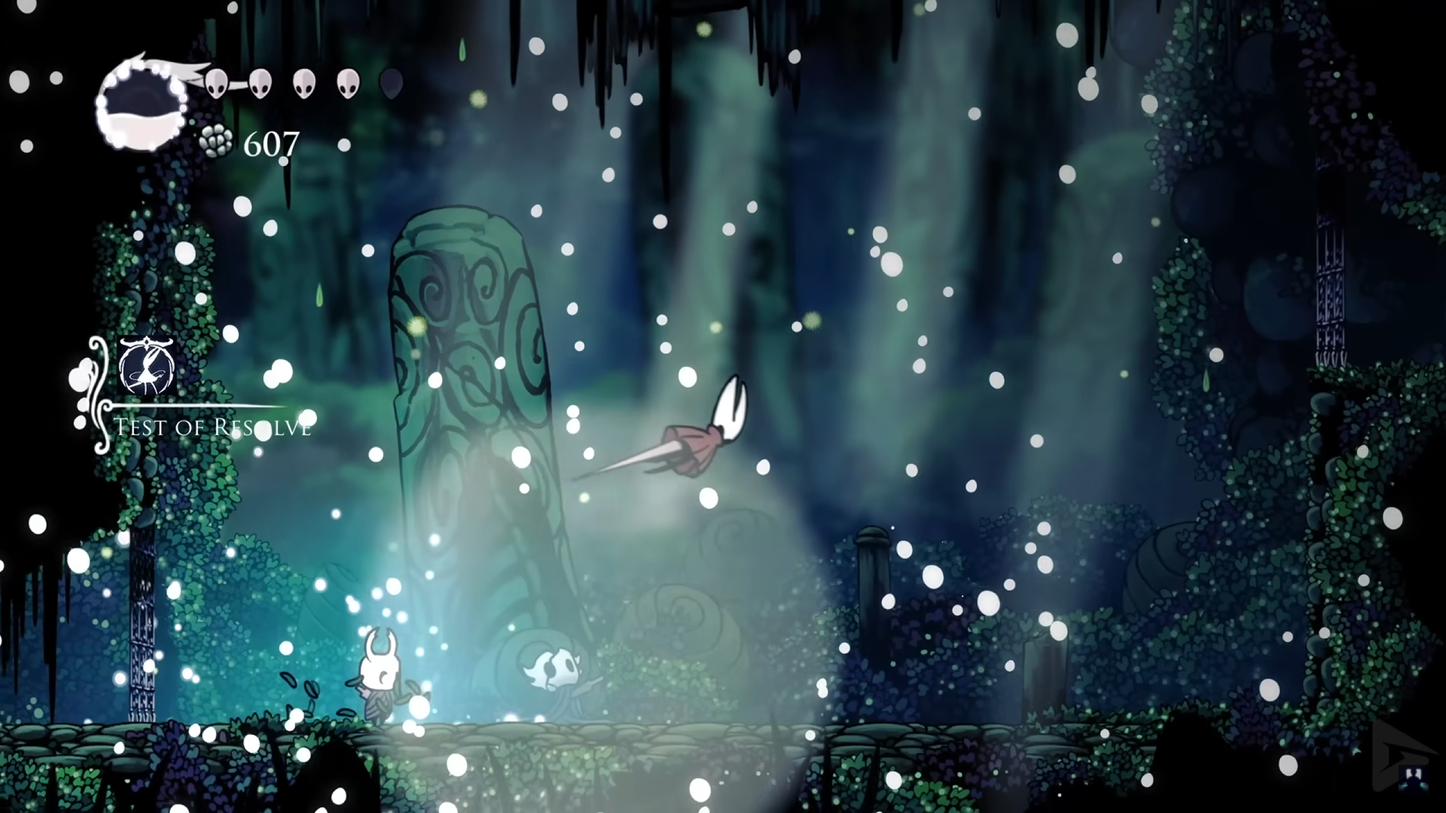HK: (352, 626, 407, 727)
